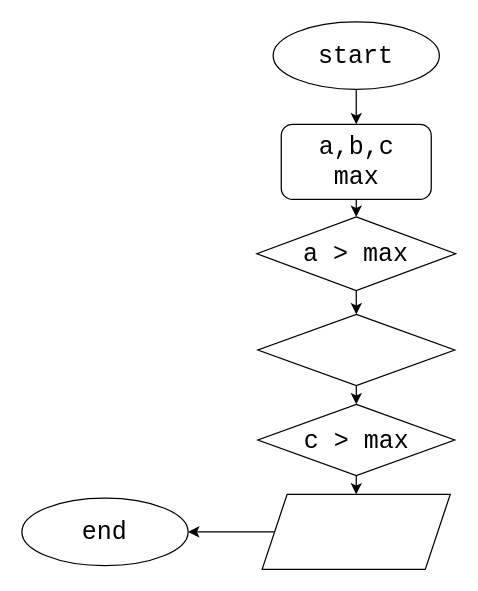
The diagram is 478 pixels wide and 591 high, and some of its shapes have lost their labels. Each missing label, with the box of its shape:
b > max: (257, 313, 455, 386)
Вывод max: (261, 493, 450, 569)
